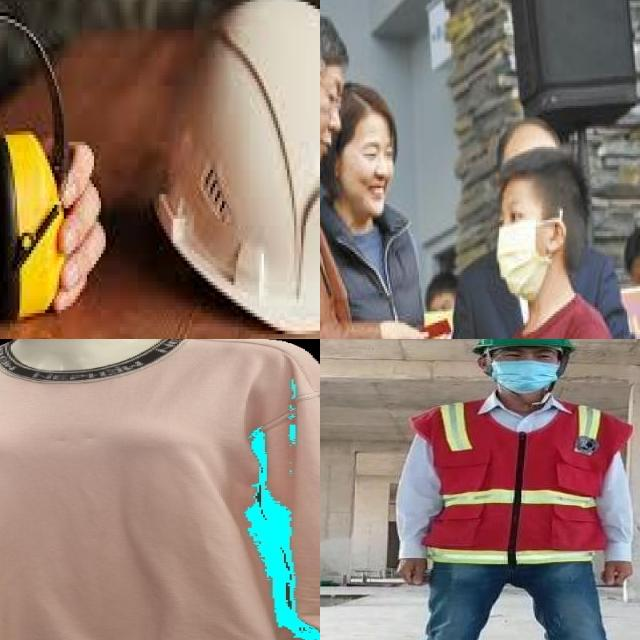Ear-protection: (0, 124, 66, 320)
No_Ear-Protection: (472, 344, 494, 381), (548, 214, 566, 258)
face_mask: (494, 195, 550, 300), (492, 358, 562, 394)
face_nomask: (342, 133, 395, 216), (320, 73, 344, 169)
hand_noglove: (588, 553, 640, 590), (391, 550, 438, 590), (374, 312, 430, 339)
head_helmet: (167, 0, 320, 339)
head_nohelmet: (482, 115, 562, 154), (496, 165, 585, 200), (345, 87, 400, 131), (320, 5, 352, 71)
person: (378, 339, 640, 640), (464, 156, 640, 339), (327, 87, 441, 339)
